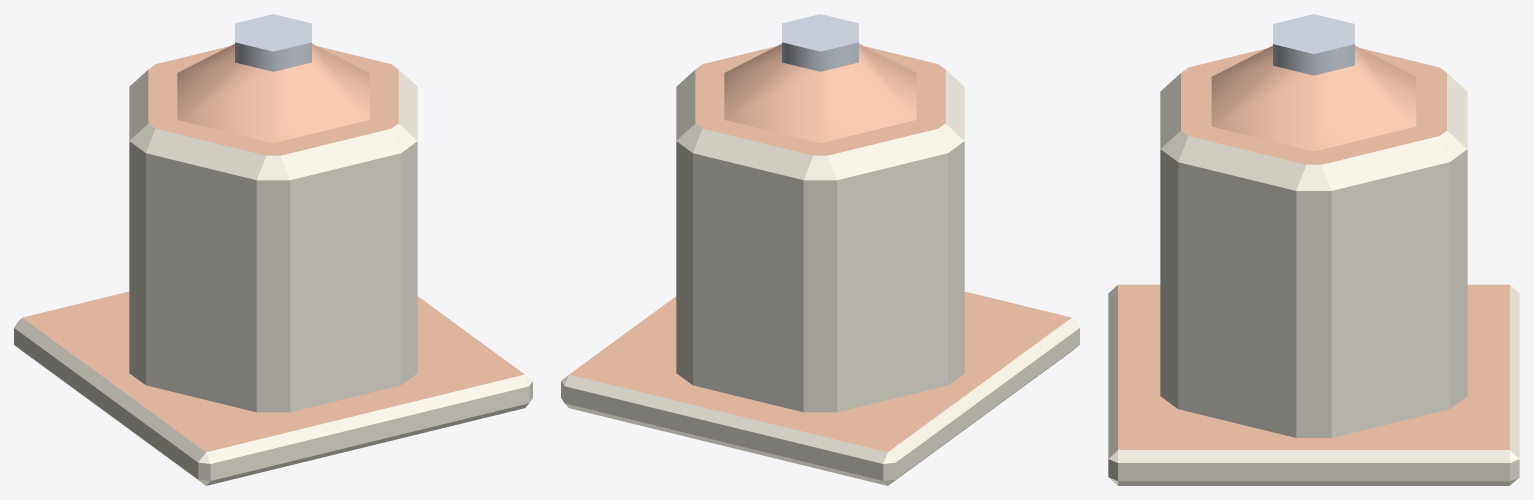
The model's file is R4X_ChargeCapacity_LOD1.fbx.
3 renders of one model, left to right at view 1: azimuth 30°, elevation 25°; view 2: azimuth 150°, elevation 25°; view 3: azimuth 270°, elevation 25°, orthographic. The views are drawn at different scales.
Parts seen in each view (by area): view 1: R4X_ChargeCapacity_LOD1; view 2: R4X_ChargeCapacity_LOD1; view 3: R4X_ChargeCapacity_LOD1.
Part boxes in pixels (x1,y1,x2,y2): R4X_ChargeCapacity_LOD1: [14, 14, 532, 485]; R4X_ChargeCapacity_LOD1: [561, 14, 1079, 485]; R4X_ChargeCapacity_LOD1: [1108, 14, 1519, 485].
Size of the model in its own units: 0.52 by 0.515 by 0.52.
